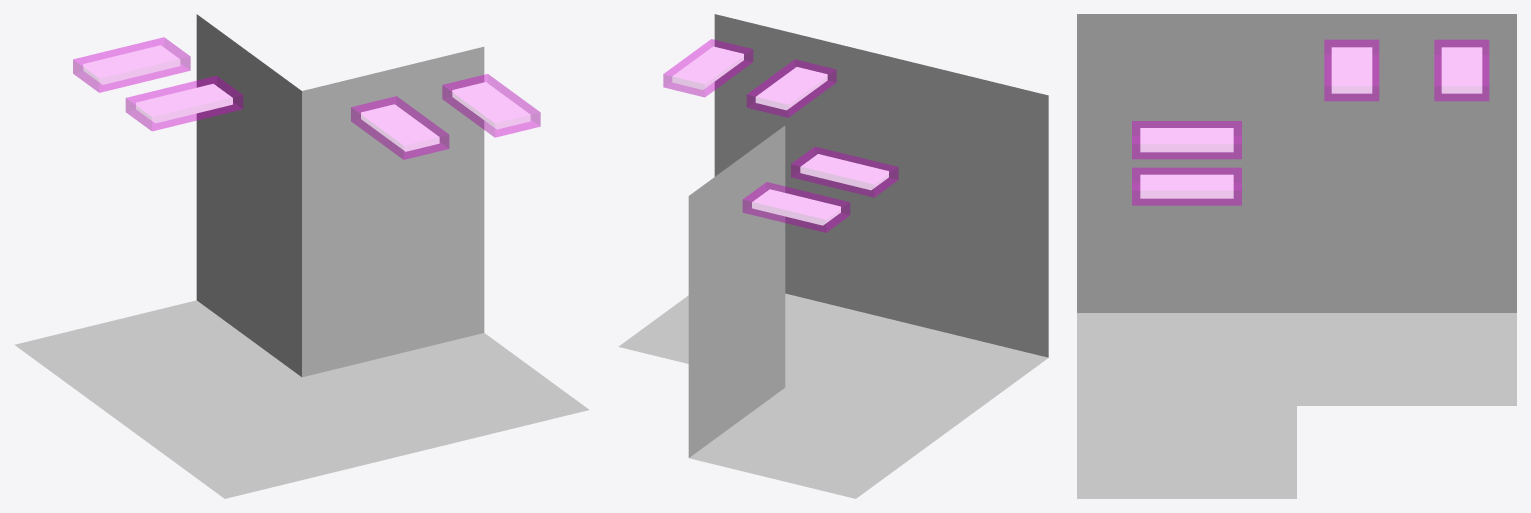
File: maze_l.glb
3 views of the same model, side by side, from view 1: azimuth 30°, elevation 25°; view 2: azimuth 150°, elevation 25°; view 3: azimuth 270°, elevation 25° (orthographic). The views are drawn at different scales.
Visible parts, largest first — view 1: Plane.006, Plane.012, Plane.001, Plane.013, Plane.004, light.003, light.002; view 2: Plane.003, Plane.002, Plane.012, Plane.004, Plane.001, Plane.013, light.003, light.002; view 3: Plane.008, Plane.010, Plane.001, Plane.004, Plane.013, light.002, light.003.
Boxes of the visible parts, box(x1,y1,x2,y2) form: Plane.006: box(302, 46, 484, 377); Plane.012: box(196, 14, 301, 376); Plane.001: box(14, 300, 301, 421); Plane.013: box(302, 333, 588, 454); Plane.004: box(120, 377, 406, 498); light.003: box(73, 37, 242, 130); light.002: box(351, 74, 540, 159); Plane.003: box(881, 55, 1048, 357); Plane.002: box(714, 14, 881, 316); Plane.012: box(688, 125, 785, 457); Plane.004: box(785, 317, 1048, 428); Plane.001: box(689, 387, 951, 498); Plane.013: box(618, 293, 881, 387); light.003: box(743, 147, 898, 232); light.002: box(663, 39, 836, 117); Plane.008: box(1297, 14, 1516, 312); Plane.010: box(1077, 14, 1296, 312); Plane.001: box(1297, 313, 1516, 405); Plane.004: box(1077, 313, 1296, 405); Plane.013: box(1077, 406, 1296, 498); light.002: box(1132, 121, 1241, 205); light.003: box(1324, 40, 1488, 100).
Bounding box in the file's own units: 8 × 6 × 8.
